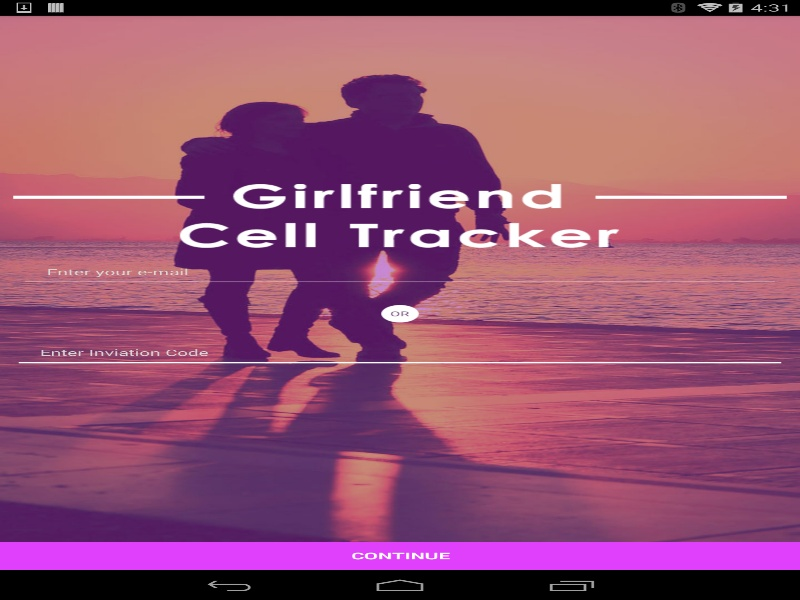Button: (0, 541, 800, 570)
Input: (20, 259, 780, 287), (13, 340, 786, 367)
